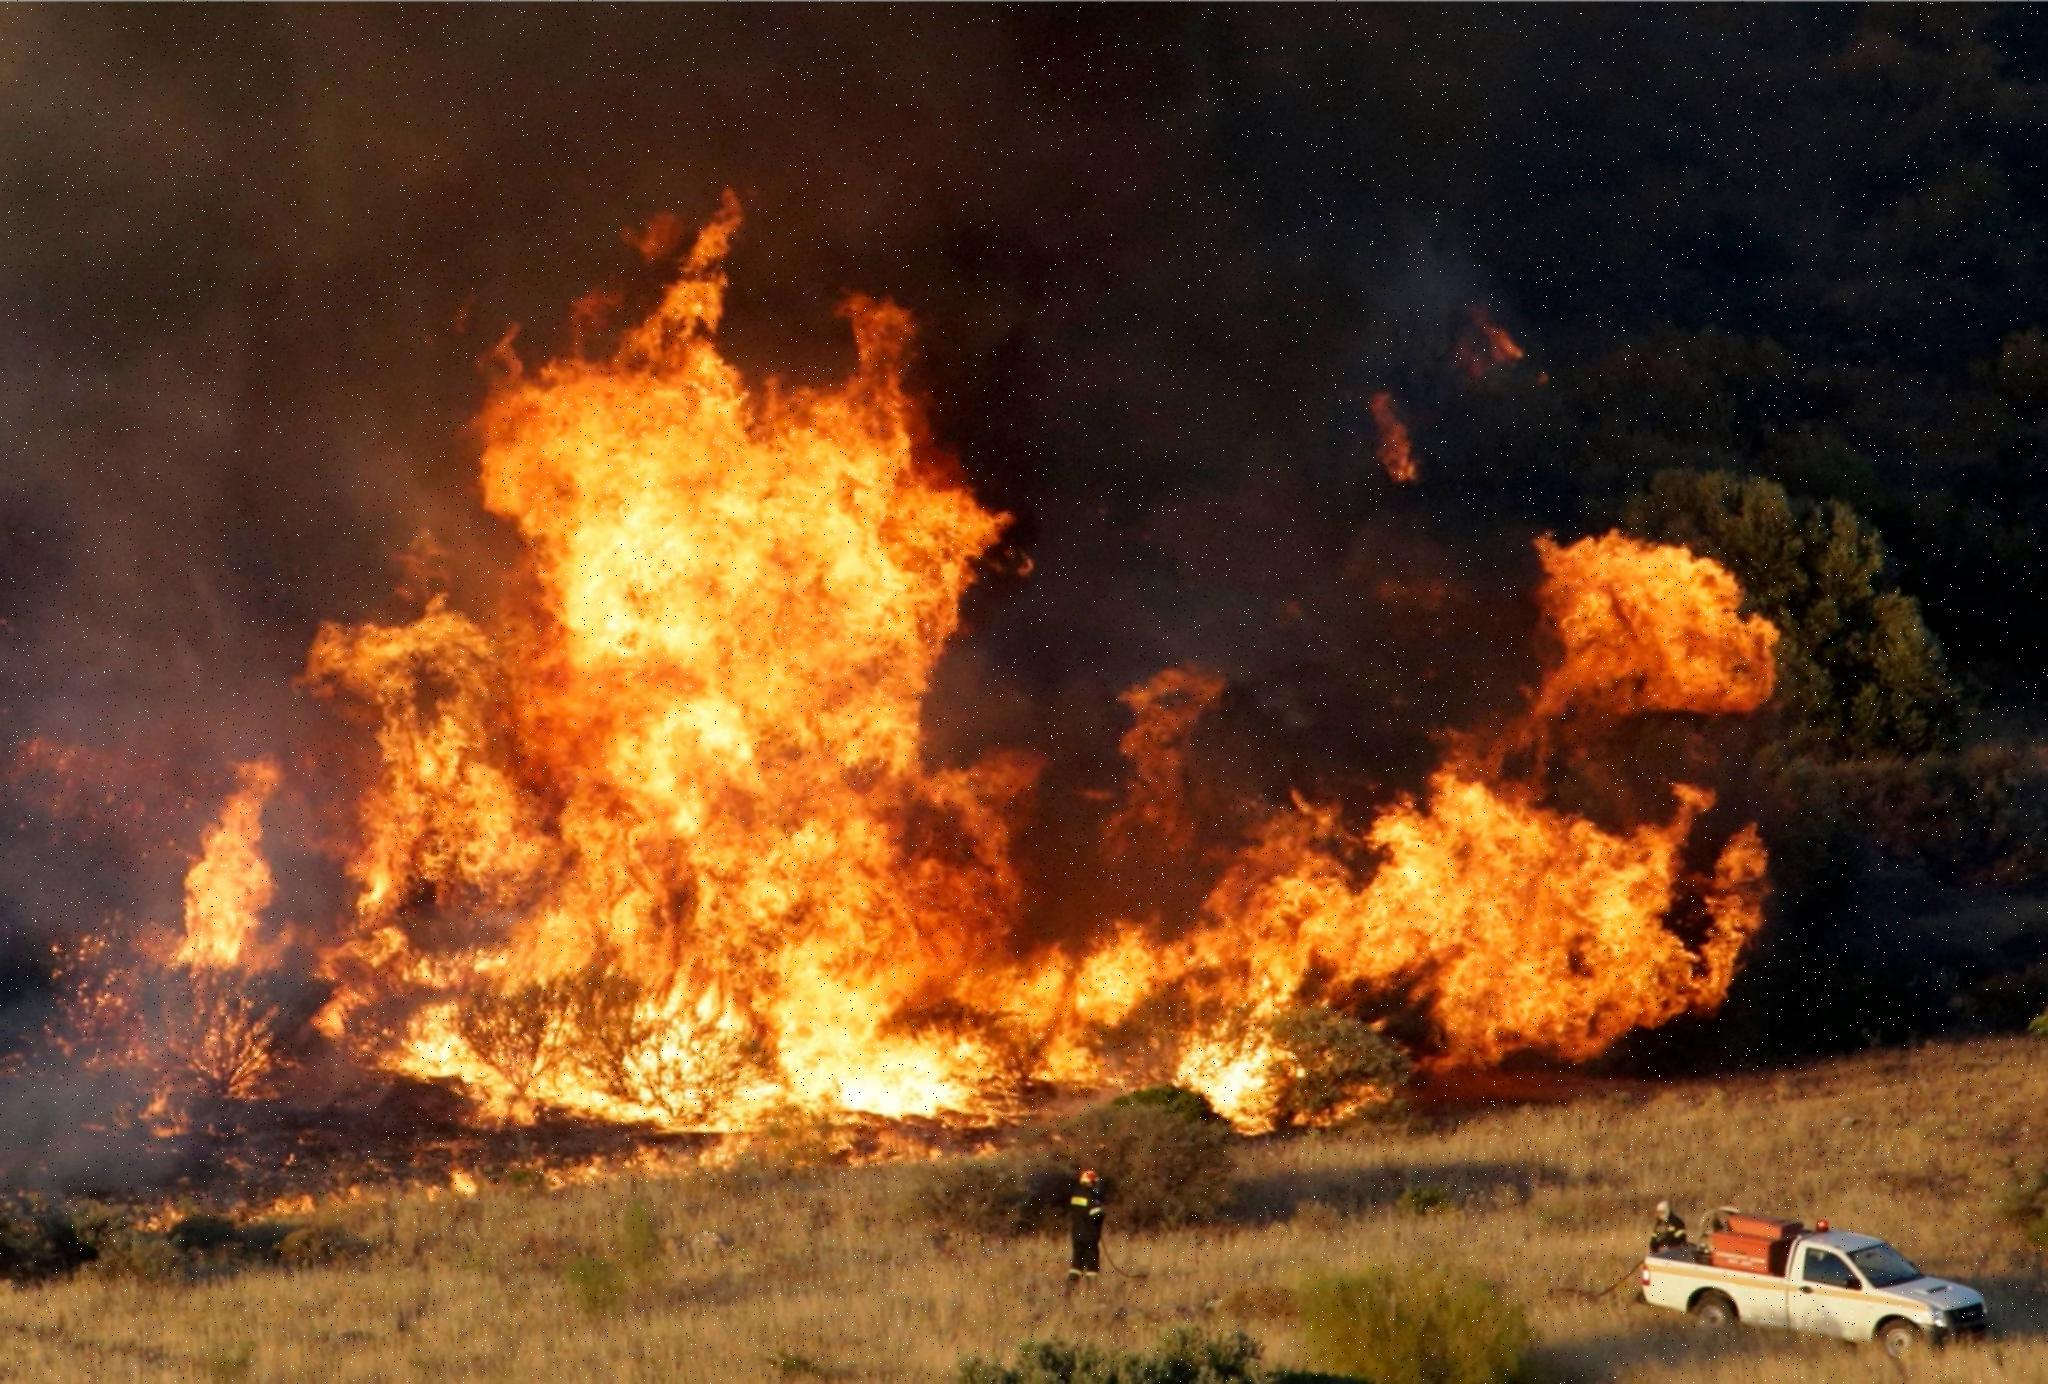fire: (134, 246, 1744, 1163)
